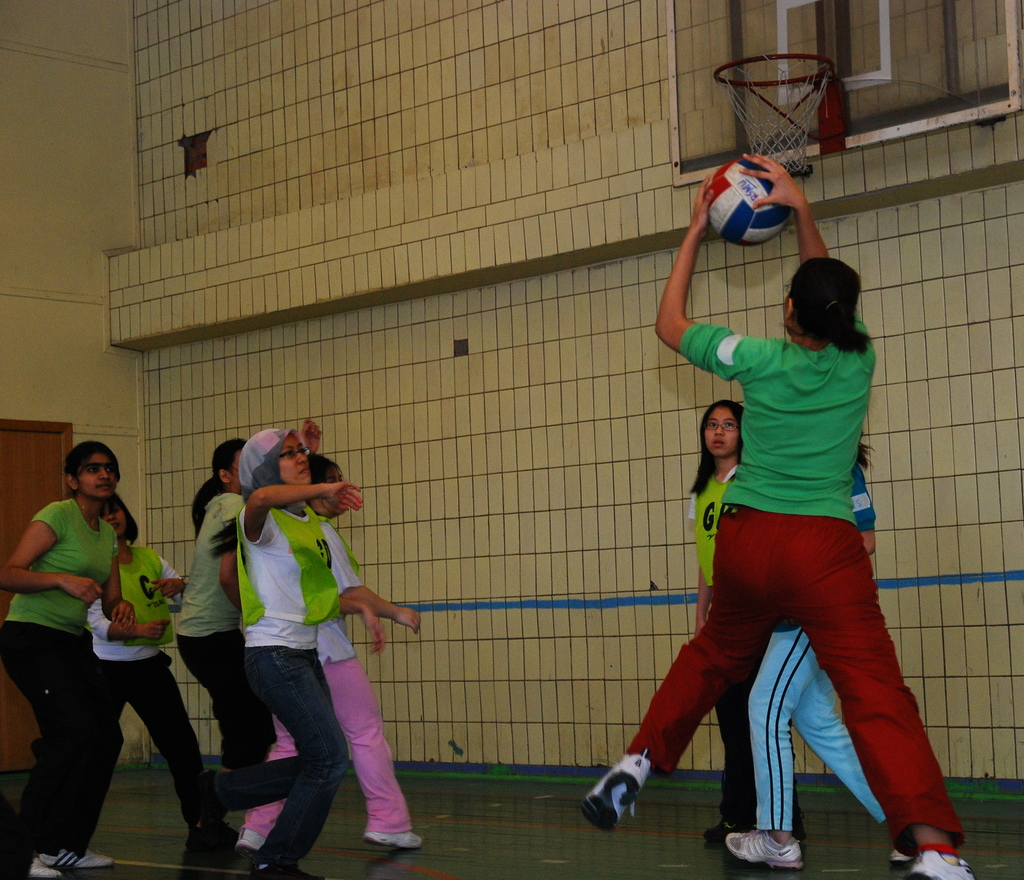Person: (0, 149, 978, 878)
